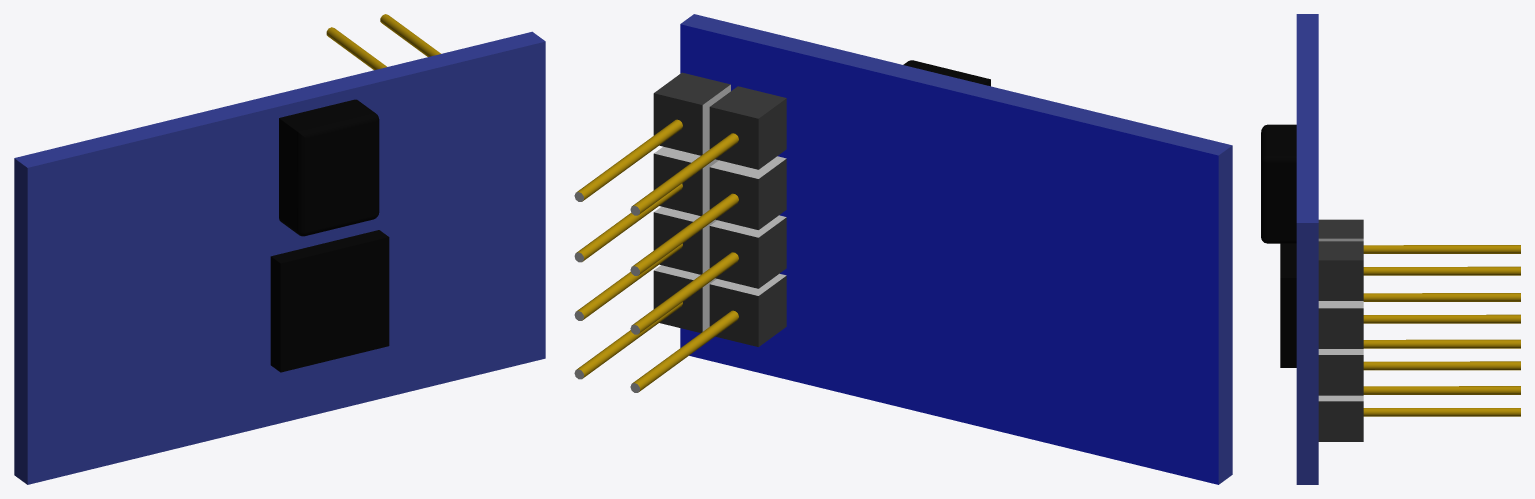
File: esp8266-01 v2.obj
3 views of the same model, side by side, from view 1: azimuth 30°, elevation 25°; view 2: azimuth 150°, elevation 25°; view 3: azimuth 270°, elevation 25° (orthographic). The views are drawn at different scales.
Parts seen in each view (by area): view 1: Solid1; view 2: Solid1; view 3: Solid1.
Boxes of the visible parts, x1=… form: Solid1: x1=14, y1=14, x2=545, y2=484; Solid1: x1=574, y1=14, x2=1232, y2=484; Solid1: x1=1261, y1=14, x2=1520, y2=484.
Bounding box in the file's own units: 24.8 × 14.5 × 13.03.
